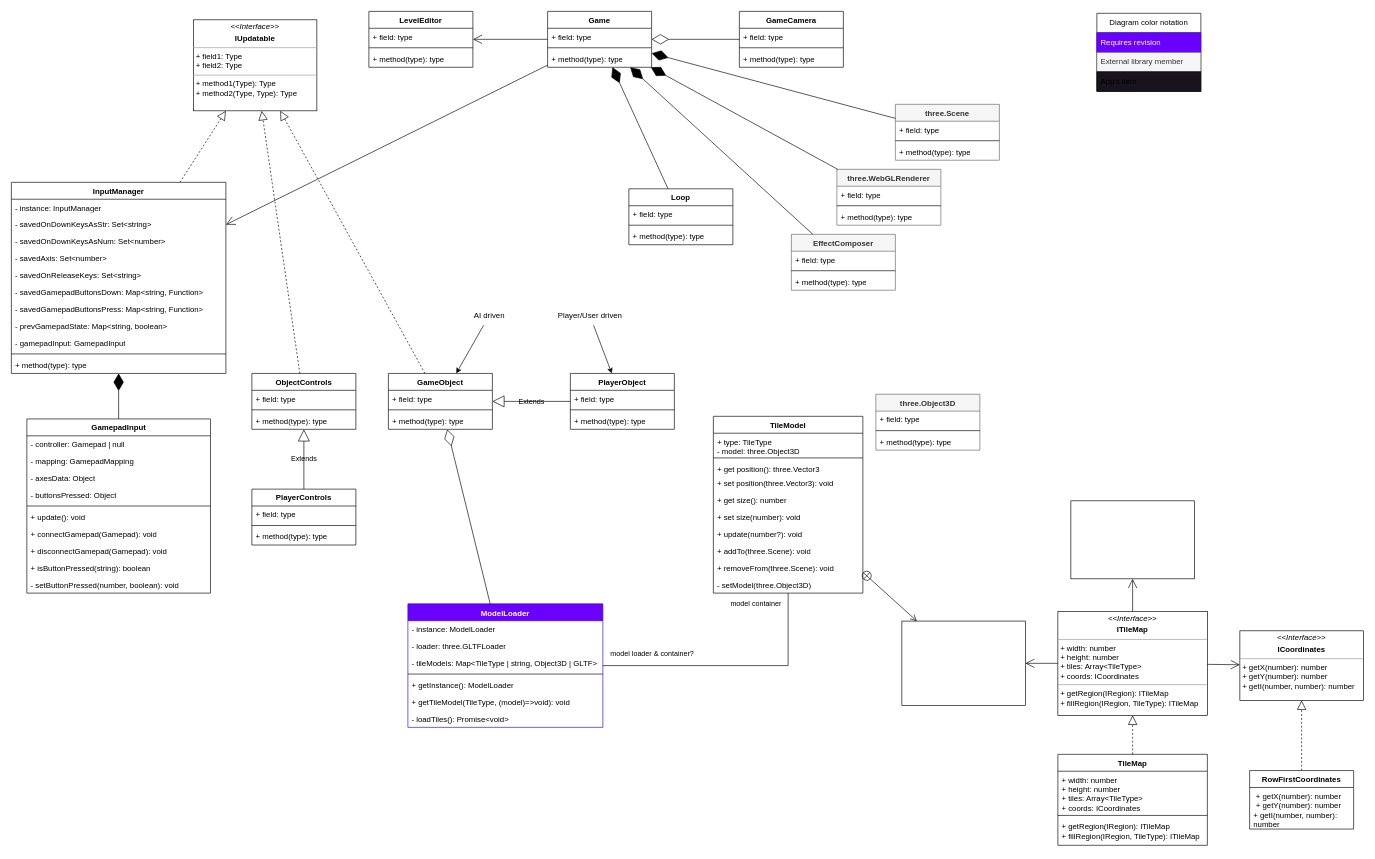
This 1375x859 diagram has some shape labels left out. Each missing label, with the centre of its shape:
"<<Enumeration>> TileType Nothing Ground Grass Water Dirt" belongs at (963,663).
"<<Interface>> IRegion + x: number + y: number + width: number + height: number" belongs at (1132,539).
